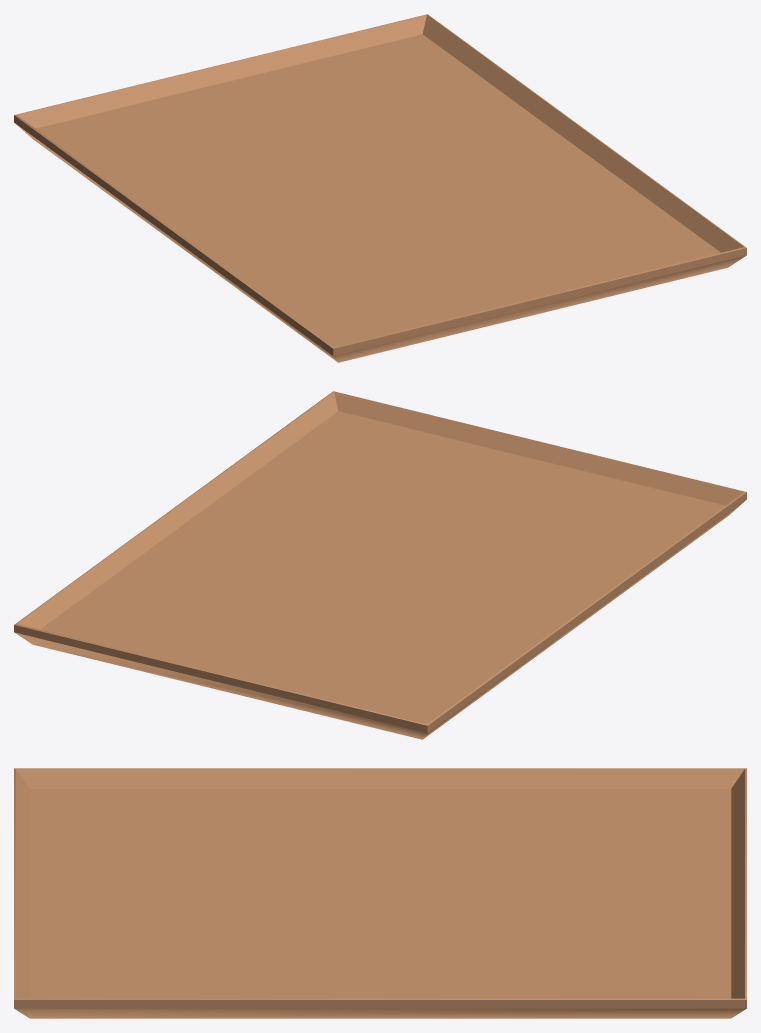
The model's file is Tray.fbx.
3 views of the same model, one above another, from view 1: azimuth 30°, elevation 25°; view 2: azimuth 150°, elevation 25°; view 3: azimuth 270°, elevation 25° (orthographic). The views are drawn at different scales.
Visible parts, largest first — view 1: pCube1; view 2: pCube1; view 3: pCube1.
Part boxes in pixels (x1=…): pCube1: x1=14, y1=14, x2=746, y2=362; pCube1: x1=14, y1=391, x2=746, y2=739; pCube1: x1=14, y1=768, x2=746, y2=1018.
Bounding box in the file's own units: 11.55 × 0.6003 × 15.45.
